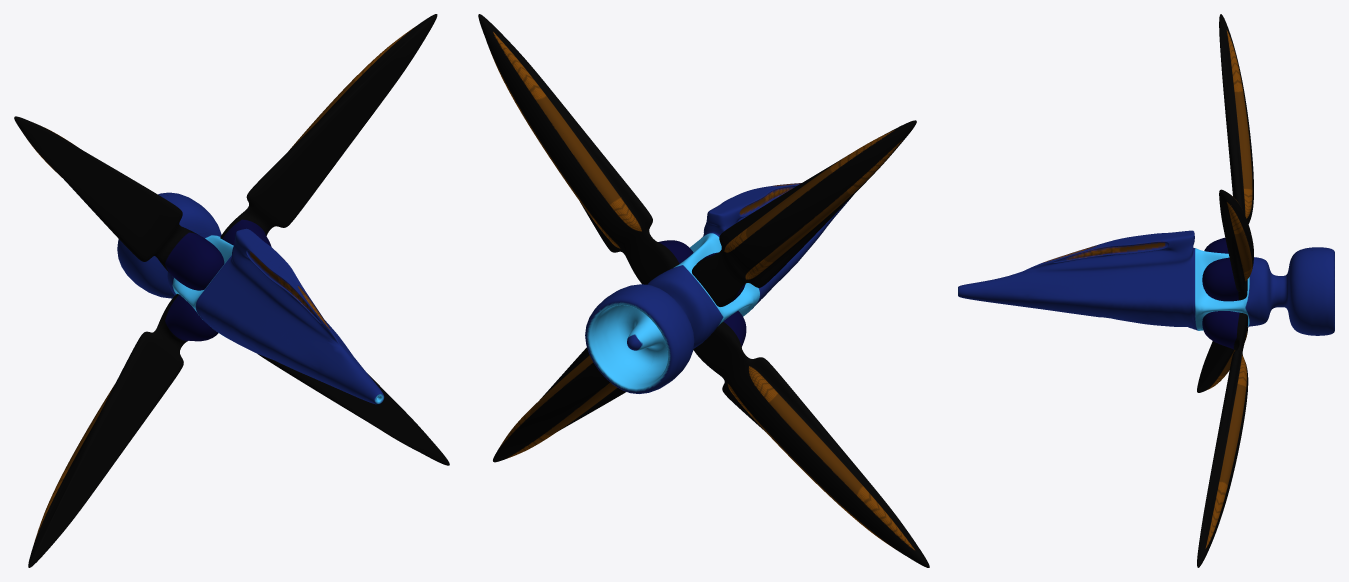
Rendered from Aaron+FlakShip.fbx.
The picture shows the model from 3 angles, left to right: view 1: azimuth 30°, elevation 25°; view 2: azimuth 150°, elevation 25°; view 3: azimuth 270°, elevation 25°; orthographic projection. The views are drawn at different scales.
Visible parts, largest first — view 1: Cube, 2, 4, 1, 3; view 2: Cube, 2, 4, 1, 3; view 3: Cube, 3, 1, 4, 2.
Boxes of the visible parts, x1,y1,x2,y2 form: Cube: (117,192,384,404); 2: (28,294,218,567); 4: (220,14,437,246); 1: (14,116,224,290); 3: (258,354,449,465); Cube: (585,183,853,393); 2: (693,311,929,567); 4: (478,14,693,284); 1: (692,120,916,306); 3: (493,347,625,462); Cube: (958,230,1334,335); 3: (1197,311,1248,567); 1: (1204,14,1253,253); 4: (1202,189,1253,301); 2: (1197,327,1248,392).
Size of the model in its own units: 1150 by 1147 by 1036.
Materials: 5 (5 with a texture image).
